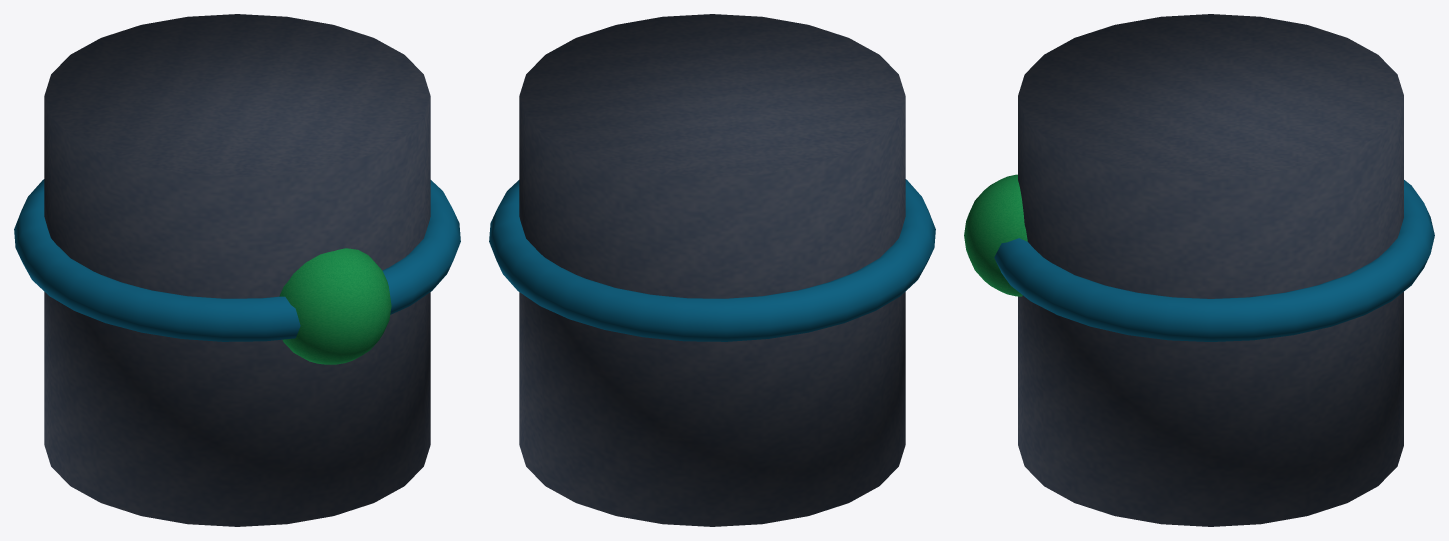
The model's file is ParticipantBeacon.obj.
3 renders of one model, left to right at view 1: azimuth 30°, elevation 25°; view 2: azimuth 150°, elevation 25°; view 3: azimuth 270°, elevation 25°, orthographic.
Parts seen in each view (by area): view 1: Beacon, Voice_Ring, Presence_Dot; view 2: Beacon, Voice_Ring; view 3: Beacon, Voice_Ring, Presence_Dot.
Part boxes in pixels (box(x1,y1,x2,y2)): Beacon: box(44, 14, 430, 526); Voice_Ring: box(14, 179, 460, 341); Presence_Dot: box(279, 248, 391, 364); Beacon: box(519, 14, 905, 526); Voice_Ring: box(489, 179, 935, 341); Beacon: box(1018, 14, 1403, 526); Voice_Ring: box(994, 180, 1434, 341); Presence_Dot: box(964, 174, 1027, 296).
Bounding box in the file's own units: 0.058 × 0.05 × 0.061.
